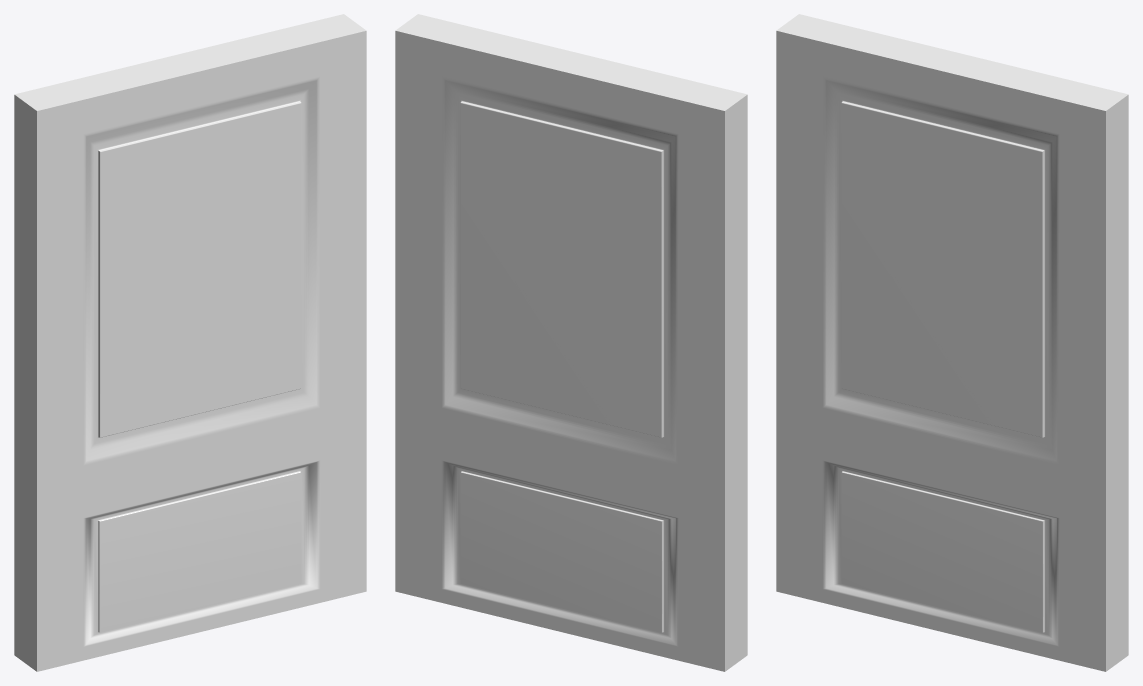
File: Door_Group_Door.fbx
3 views of the same model, side by side, from view 1: azimuth 30°, elevation 25°; view 2: azimuth 150°, elevation 25°; view 3: azimuth 330°, elevation 25° (orthographic).
Visible parts, largest first — view 1: Door_Group_Door; view 2: Door_Group_Door; view 3: Door_Group_Door.
Part boxes in pixels (x1,y1,x2,y2): Door_Group_Door: (14,14,366,671); Door_Group_Door: (395,14,747,671); Door_Group_Door: (776,14,1128,671).
Bounding box in the file's own units: 198 × 322 × 23.71.
1 material, 1 textured.
